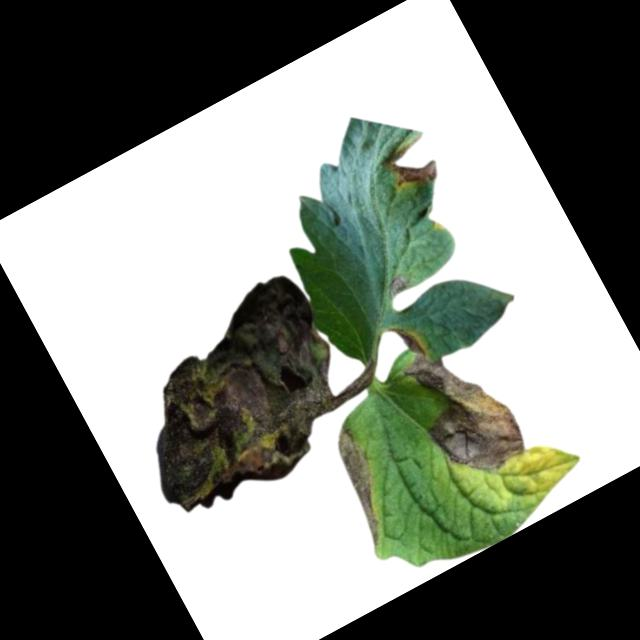Early_blight: (96, 266, 375, 531), (396, 331, 534, 491), (318, 424, 407, 547), (376, 131, 444, 198), (383, 317, 427, 366), (384, 273, 411, 298)
